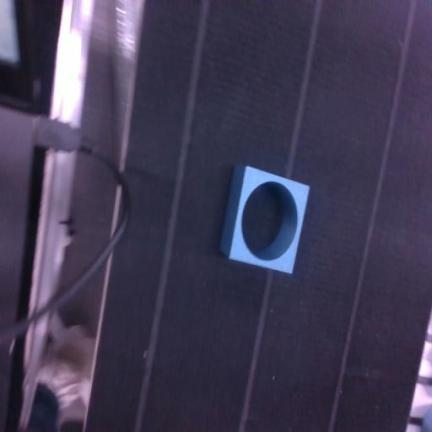square: (222, 166, 309, 273)
